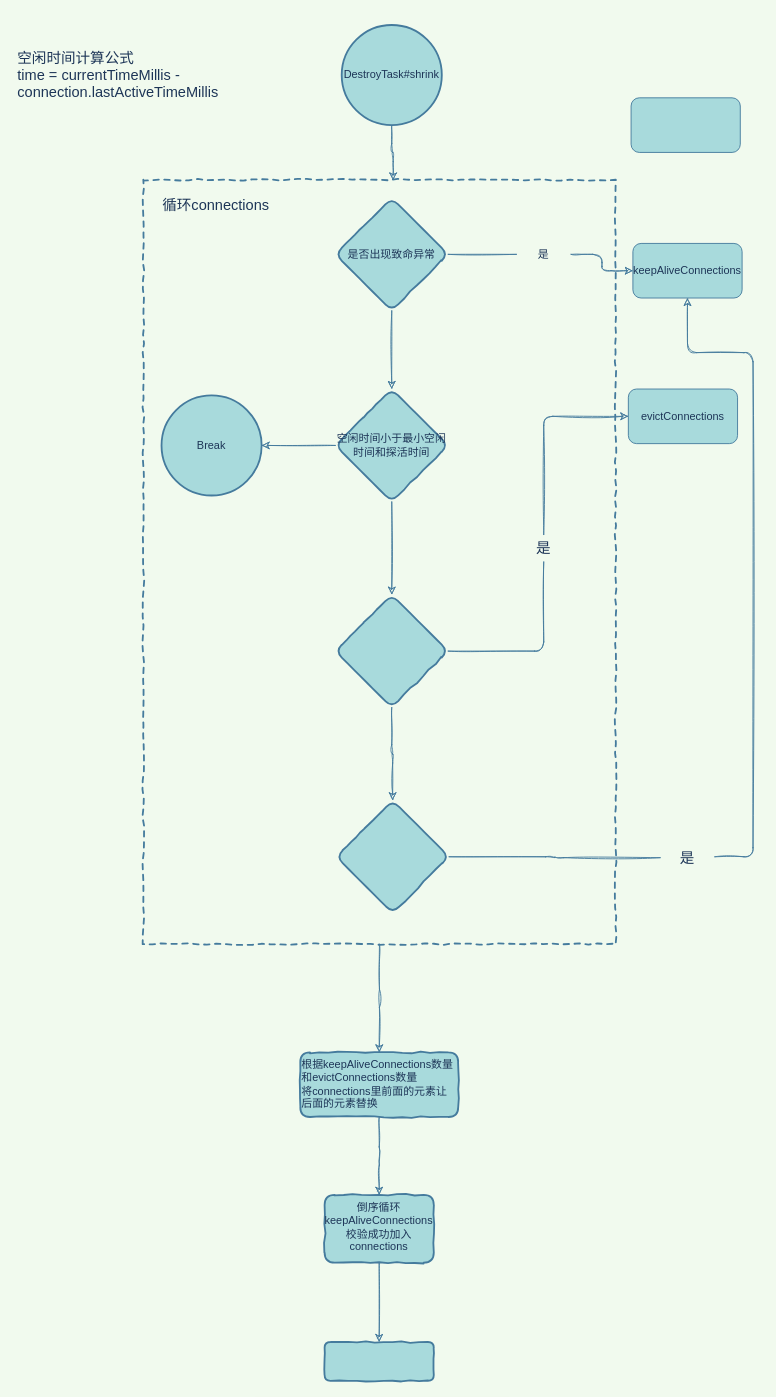
Image size: 776x1397. Some labels were removed from this diagram. The centre of each missing label's shape, as x and y in pixels:
connections: (x=685, y=124)
循环evictConnections 关闭连接: (x=378, y=1361)
根据keepAlive和keepAliveBetweenTimeMillis判断是否需要删除: (x=392, y=856)
根据最大/最小空闲时间和最小连接数判断是否驱逐连接: (x=391, y=650)
